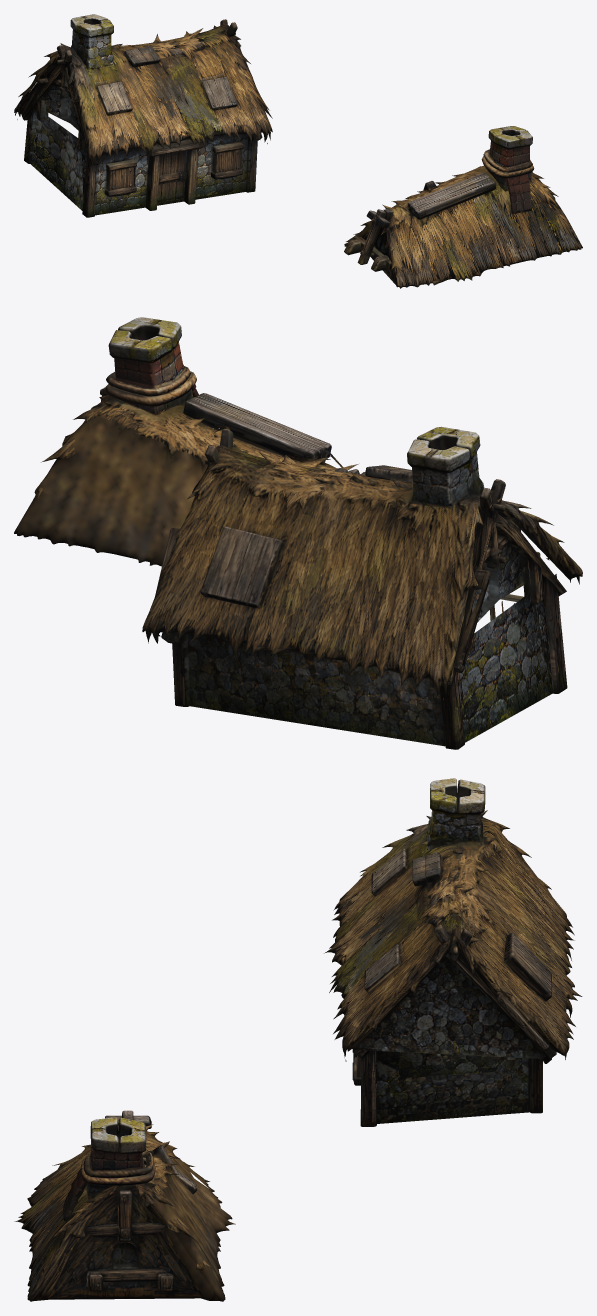
File: act1_kit_v1_R10_weir_cottage_roof.glb
3 renders of one model, top to bottom at view 1: azimuth 30°, elevation 25°; view 2: azimuth 150°, elevation 25°; view 3: azimuth 270°, elevation 25°, orthographic. The views are drawn at different scales.
Visible parts, largest first — view 1: tripo_000aad01_e9db_4787_8947_abd1e2725c59; view 2: tripo_000aad01_e9db_4787_8947_abd1e2725c59; view 3: tripo_000aad01_e9db_4787_8947_abd1e2725c59.
Boxes of the visible parts, x1,y1,x2,y2 form: tripo_000aad01_e9db_4787_8947_abd1e2725c59: (14,14,582,288); tripo_000aad01_e9db_4787_8947_abd1e2725c59: (14,317,582,749); tripo_000aad01_e9db_4787_8947_abd1e2725c59: (14,778,582,1301).
Bounding box in the file's own units: 0.9995 × 0.5005 × 0.9185.
1 material, 1 textured.
